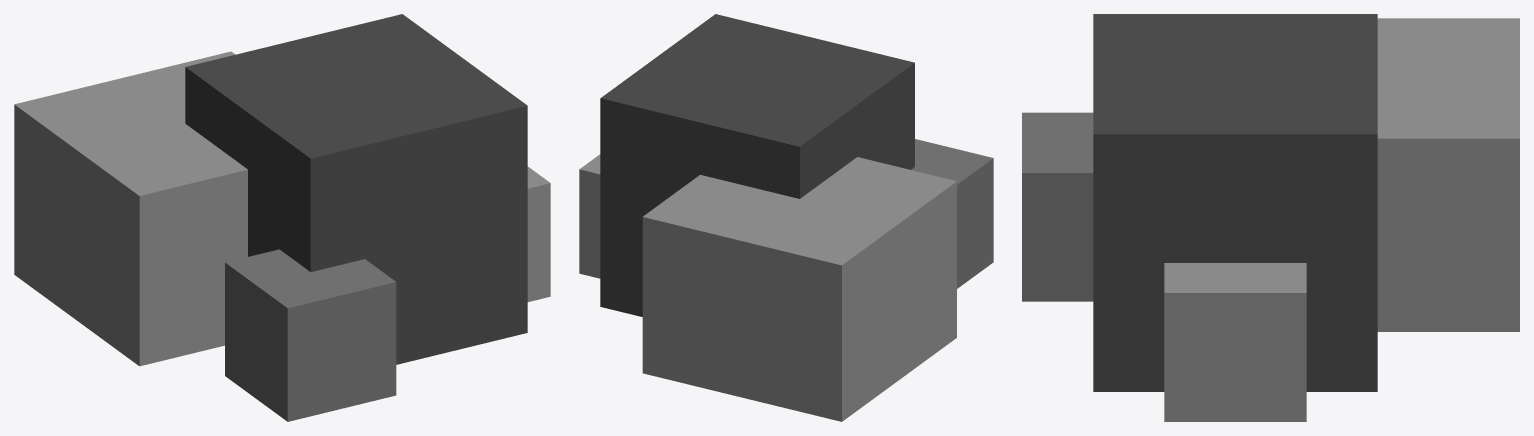
File: Rocks-0.obj
The picture shows the model from 3 angles, left to right: view 1: azimuth 30°, elevation 25°; view 2: azimuth 150°, elevation 25°; view 3: azimuth 270°, elevation 25°; orthographic projection. The views are drawn at different scales.
Visible parts, largest first — view 1: Rocks-0; view 2: Rocks-0; view 3: Rocks-0.
Part boxes in pixels (bbox=[...]): Rocks-0: bbox=[14, 14, 550, 421]; Rocks-0: bbox=[579, 14, 993, 421]; Rocks-0: bbox=[1022, 14, 1519, 421].
Size of the model in its own units: 7 by 4 by 7.
Materials: 1 (1 with a texture image).
